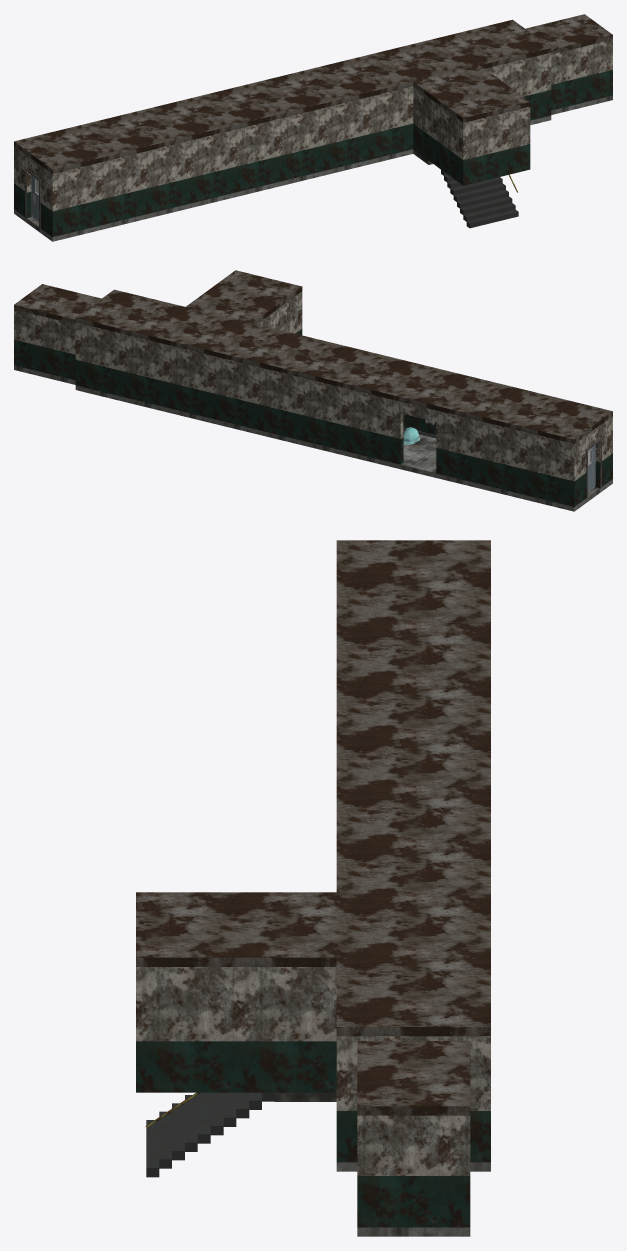
The model's file is corridoio.gltf.
3 renders of one model, top to bottom at view 1: azimuth 30°, elevation 25°; view 2: azimuth 150°, elevation 25°; view 3: azimuth 270°, elevation 25°, orthographic. The views are drawn at different scales.
Parts seen in each view (by area): view 1: corridoio_statico, porta_servizio; view 2: corridoio_statico, porta_servizio; view 3: corridoio_statico.
Part boxes in pixels (x1,y1,x2,y2): corridoio_statico: (14,14,612,241); porta_servizio: (31,175,38,221); corridoio_statico: (14,270,612,511); porta_servizio: (588,444,595,491); corridoio_statico: (136,540,490,1236).
Size of what is drawn, in the model's own units: 25.44 by 4.9 by 6.9.
31 materials, 26 textured.
